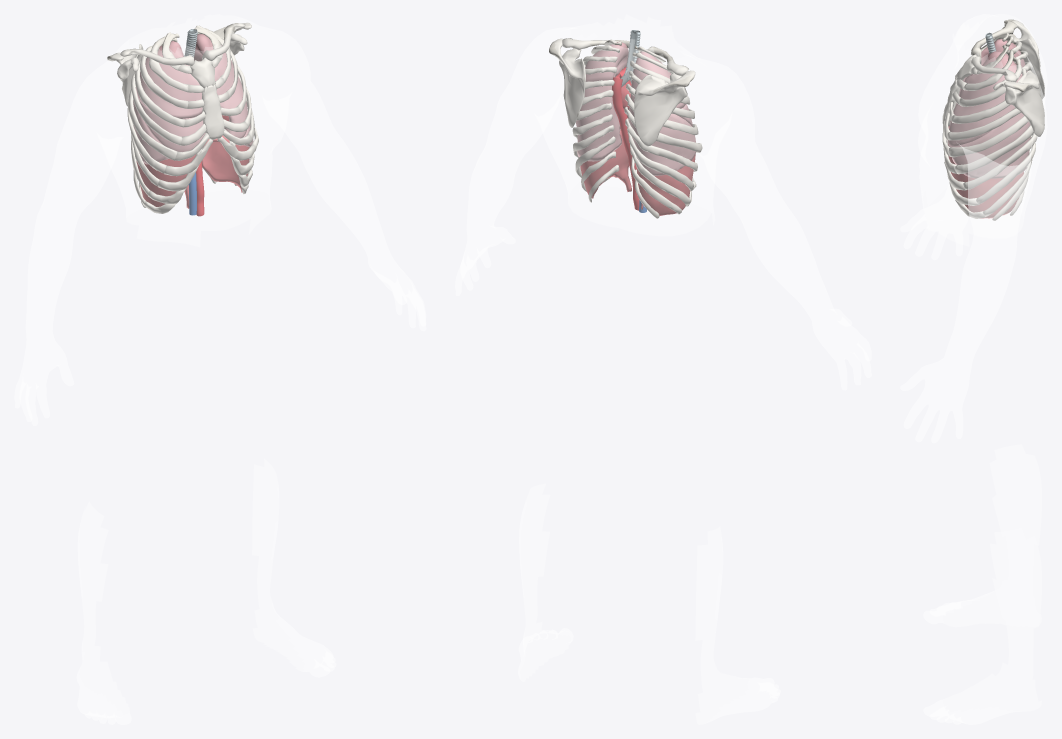
The model's file is submodel_cardiopulmonary.glb.
The picture shows the model from 3 angles, left to right: view 1: azimuth 30°, elevation 25°; view 2: azimuth 150°, elevation 25°; view 3: azimuth 270°, elevation 25°; orthographic projection. The views are drawn at different scales.
Visible parts, largest first — view 1: Anatomy_Torso, Skeletal_Ribcage, Organ_Lung_Right, Muscle_Diaphragm, Organ_Lung_Left; view 2: Anatomy_Torso, Skeletal_Ribcage, Organ_Lung_Left, Muscle_Diaphragm, Organ_Lung_Right, Vessel_Aorta; view 3: Anatomy_Torso, Skeletal_Ribcage, Organ_Lung_Left, Muscle_Diaphragm, Organ_Lung_Right.
Part boxes in pixels (x1,y1,x2,y2): Anatomy_Torso: [14, 14, 426, 724]; Skeletal_Ribcage: [107, 22, 258, 213]; Organ_Lung_Right: [133, 41, 205, 164]; Muscle_Diaphragm: [136, 135, 249, 208]; Organ_Lung_Left: [194, 34, 253, 147]; Anatomy_Torso: [455, 14, 871, 724]; Skeletal_Ribcage: [549, 38, 702, 218]; Organ_Lung_Left: [576, 41, 628, 161]; Muscle_Diaphragm: [580, 129, 695, 215]; Organ_Lung_Right: [628, 51, 696, 175]; Vessel_Aorta: [612, 77, 639, 210]; Anatomy_Torso: [900, 14, 1047, 724]; Skeletal_Ribcage: [942, 19, 1044, 220]; Organ_Lung_Left: [947, 51, 1030, 178]; Muscle_Diaphragm: [948, 121, 1023, 218]; Organ_Lung_Right: [955, 39, 1027, 105].
Bounding box in the file's own units: 0.9864 × 1.55 × 0.3253.
